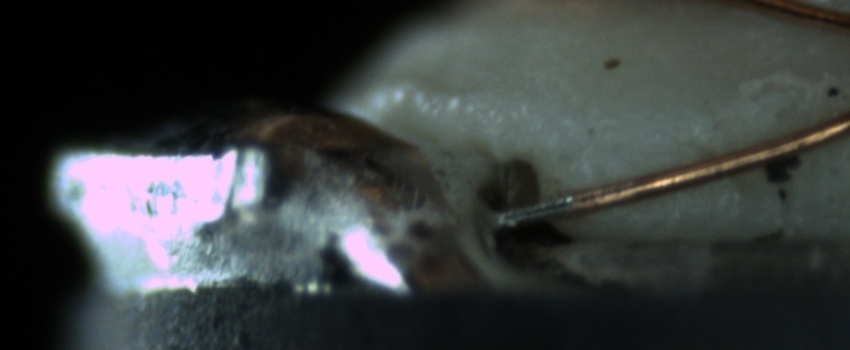TS: (498, 195, 574, 226)
